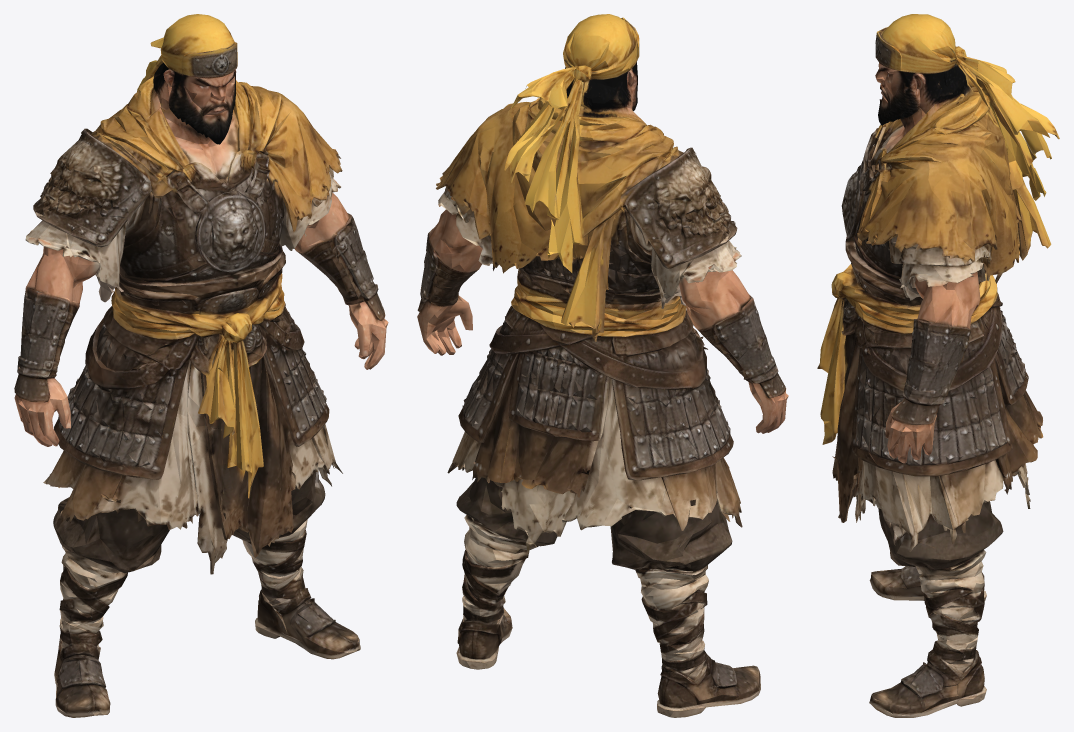
The model's file is glb.glb.
The picture shows the model from 3 angles, left to right: view 1: azimuth 30°, elevation 25°; view 2: azimuth 150°, elevation 25°; view 3: azimuth 270°, elevation 25°; orthographic projection. The views are drawn at different scales.
Size of the model in its own units: 1.11 by 1.9 by 0.6621.
1 material, 1 textured.
